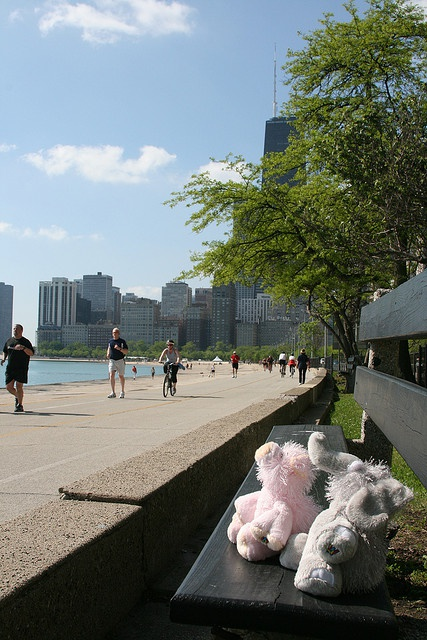non-vehicle: (158, 360, 176, 397), (290, 365, 295, 378), (281, 363, 283, 377)
